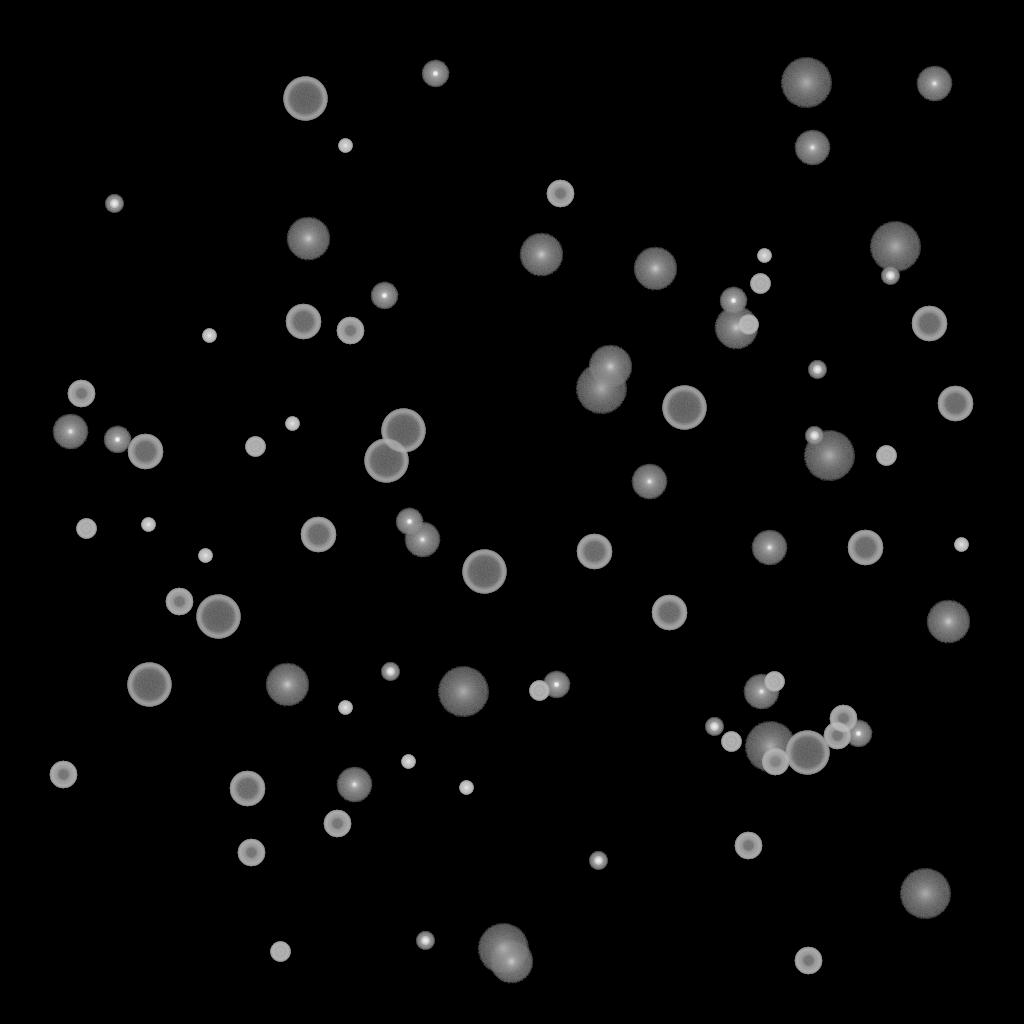depth:-10: (844, 720, 872, 748), (421, 60, 449, 88), (395, 508, 423, 536), (719, 287, 747, 315), (370, 282, 398, 310), (103, 426, 131, 454), (542, 671, 570, 699)
depth:-20: (416, 932, 434, 950), (705, 718, 723, 736), (105, 195, 123, 213), (381, 663, 399, 681), (589, 852, 607, 870), (881, 267, 899, 285), (808, 361, 826, 379), (805, 427, 823, 445)
depth:-30: (757, 249, 771, 263), (141, 518, 155, 532), (338, 701, 352, 715), (285, 417, 299, 431), (459, 781, 473, 795), (202, 329, 216, 343), (338, 139, 352, 153), (198, 549, 212, 563), (401, 755, 415, 769), (954, 538, 968, 552)
depth:-40: (529, 681, 549, 701), (764, 672, 784, 692), (76, 519, 96, 539), (721, 732, 741, 752), (270, 942, 290, 962), (876, 446, 896, 466), (245, 437, 265, 457), (738, 315, 758, 335), (750, 274, 770, 294)
depth:-50: (237, 839, 265, 867), (165, 588, 193, 616), (761, 748, 789, 776), (794, 947, 822, 975), (67, 380, 95, 408), (829, 705, 857, 733), (823, 722, 851, 750), (734, 832, 762, 860), (336, 317, 364, 345), (49, 761, 77, 789), (546, 180, 574, 208), (323, 810, 351, 838)
depth:-60: (651, 595, 687, 631), (229, 771, 265, 807), (911, 306, 947, 342), (127, 434, 163, 470), (300, 517, 336, 553), (285, 304, 321, 340), (576, 534, 612, 570), (937, 386, 973, 422), (847, 530, 883, 566)
depth:-70: (364, 439, 408, 483), (462, 550, 506, 594), (381, 409, 425, 453), (662, 386, 706, 430), (785, 731, 829, 775), (283, 77, 327, 121), (196, 595, 240, 639), (127, 663, 171, 707)
depth:0: (794, 130, 830, 166), (404, 522, 440, 558), (52, 414, 88, 450), (631, 464, 667, 500), (916, 66, 952, 102), (743, 674, 779, 710), (751, 530, 787, 566), (336, 767, 372, 803)
depth:10: (489, 940, 533, 984), (588, 345, 632, 389), (519, 233, 563, 277), (633, 247, 677, 291), (265, 663, 309, 707), (926, 600, 970, 644), (714, 306, 758, 350), (286, 217, 330, 261)
depth:20: (780, 58, 832, 108), (477, 924, 529, 974), (869, 222, 921, 272), (899, 869, 951, 919), (744, 722, 796, 772), (575, 364, 627, 414), (437, 667, 489, 717), (803, 431, 855, 481)
